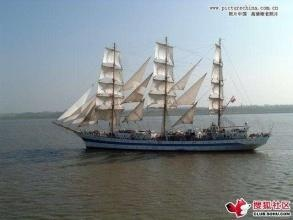fanchuan: (53, 35, 273, 152)
